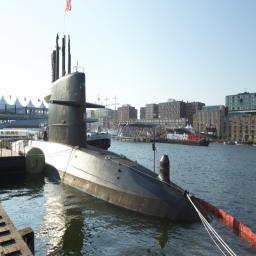submarine: (11, 30, 213, 224)
